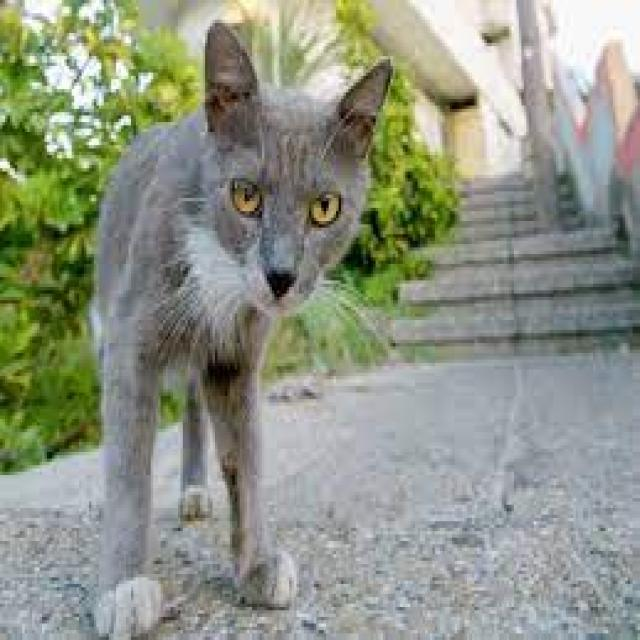cat: (95, 22, 389, 638)
